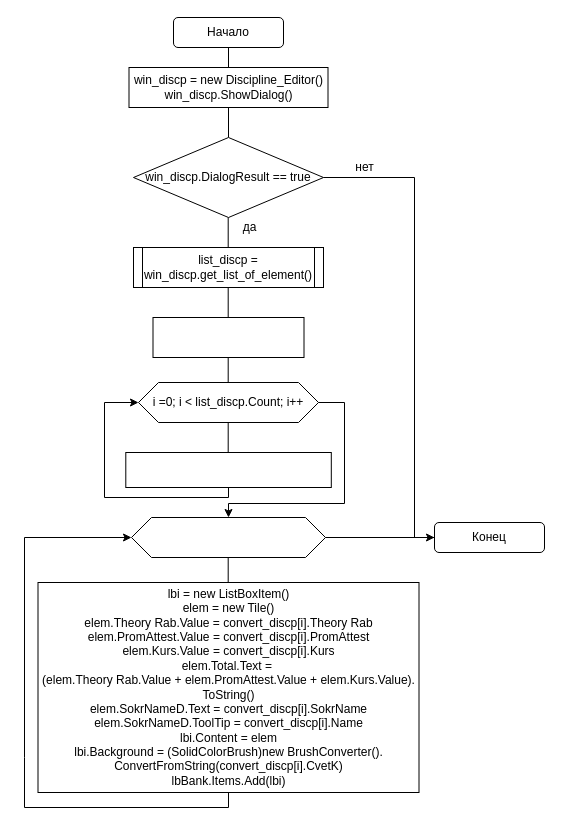
This 562x833 diagram has some shape labels left out. The shapes that lost their labels are listed below. From the top down, each one's centre as x and y in pixels, then its label:
At point (228, 337): "convert_discp = new List<Discipline_DataGrid>()".
At point (228, 470): "convert_discp. Add((Discipline_DataGrid)list_disp[i])".
At point (228, 537): "i =0; i < convert_discp.Count; i++".
